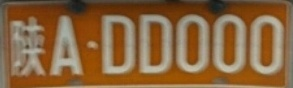A: (50, 16, 83, 76)
